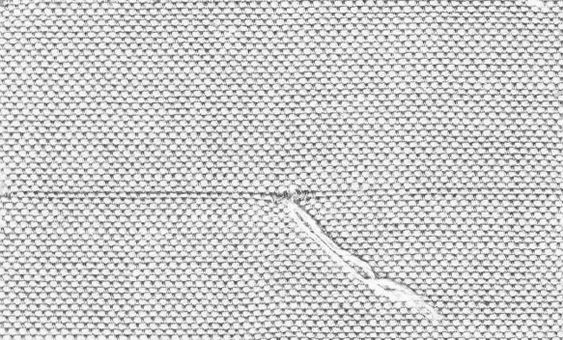Hole: (223, 157, 495, 326)
